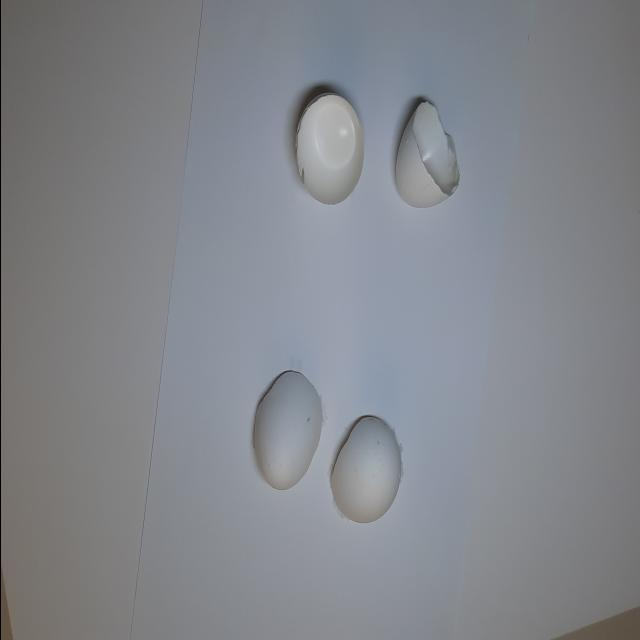egg shell: (287, 78, 371, 215), (245, 363, 325, 497), (386, 88, 466, 220), (325, 412, 409, 532)
